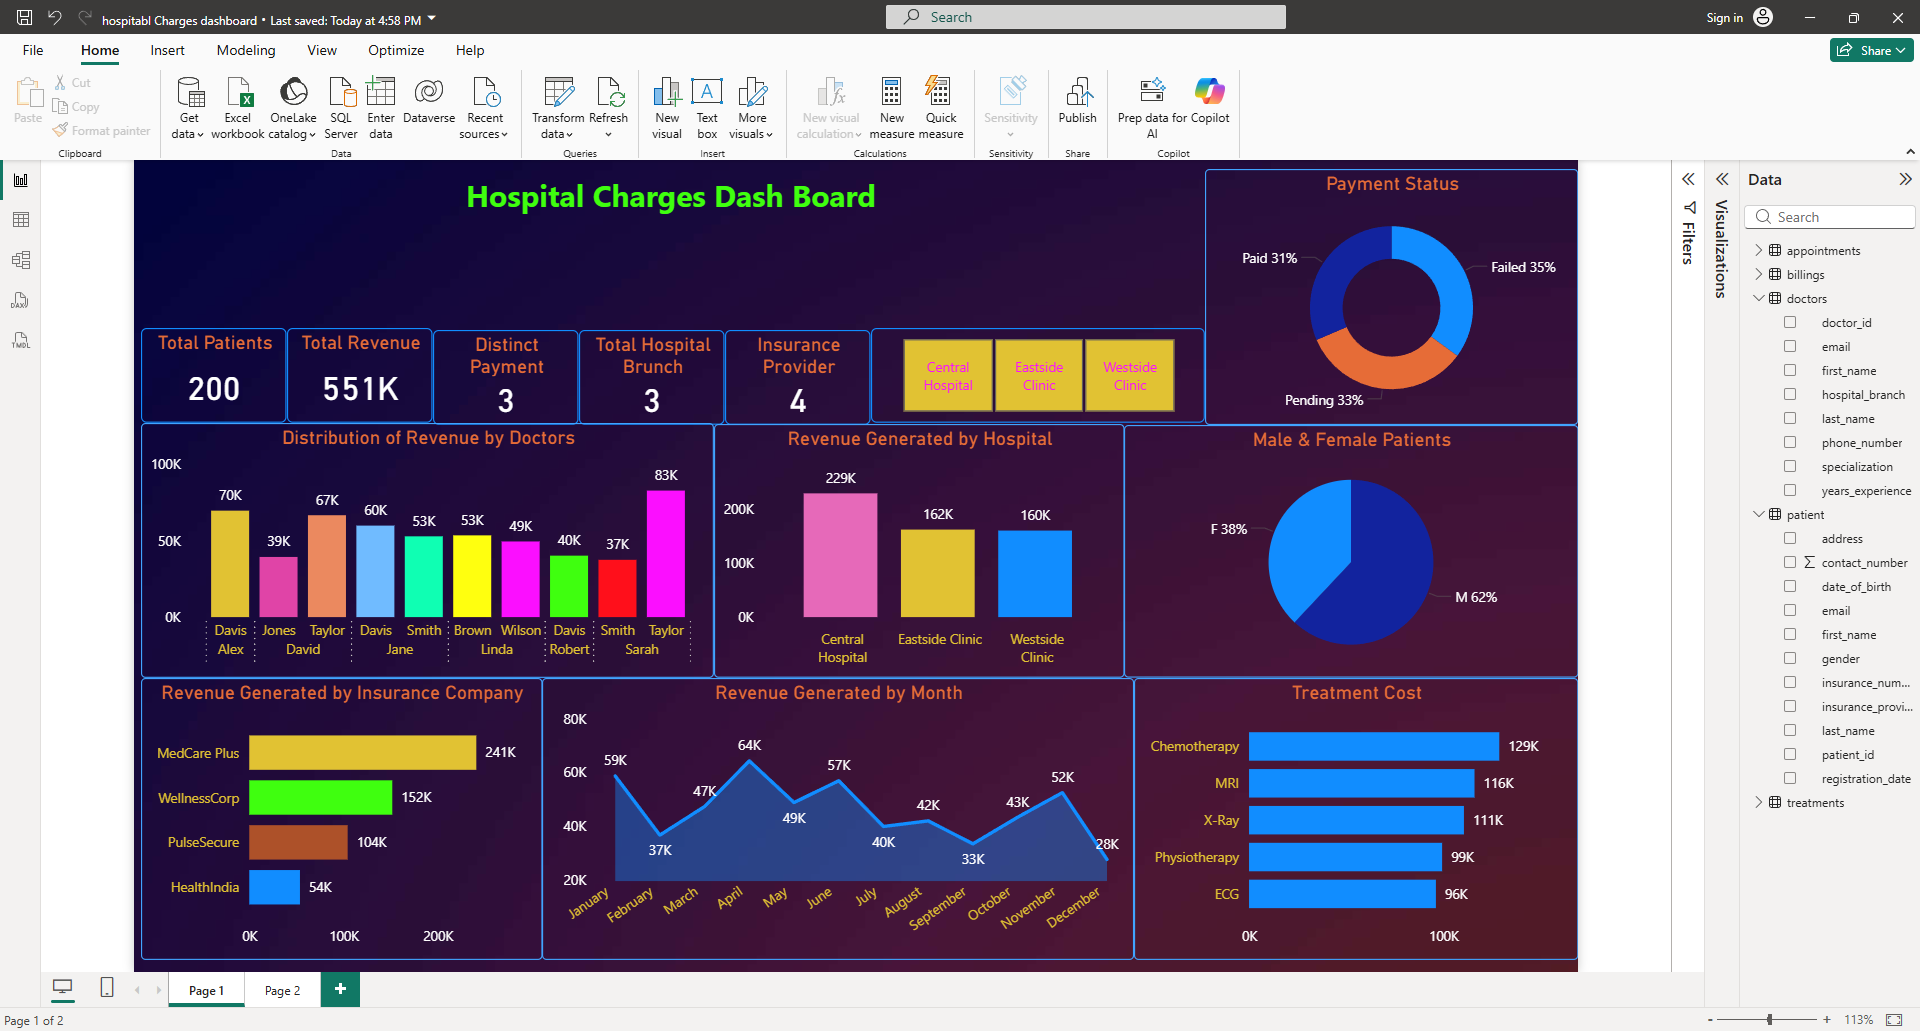

This screenshot's page, from the dashboard's own definition file:
{"tool":"powerbi","page":{"name":"Page 1","canvas":[1280,720],"ordinal":0},"visuals":[{"type":"card","title":"Total Patients","fields":{"Values":["Count(appointments.appointment_id)"]},"box":[6.2,149,129.5,84.2],"z":0},{"type":"card","title":"Total Revenue","fields":{"Values":["Sum(treatments.cost)"]},"box":[135.7,149,129.5,84.2],"z":1},{"type":"card","title":"Distinct Payment","fields":{"Values":["Count(billings.payment_method)"]},"box":[265.1,150.7,129.5,84.2],"z":2},{"type":"card","title":"Total Hospital Brunch","fields":{"Values":["Count(doctors.hospital_branch)"]},"box":[394.6,150.7,129.5,84.2],"z":3},{"type":"card","title":"Insurance Provider","fields":{"Values":["Count(patient.insurance_provider)"]},"box":[524,150.7,129.5,84.2],"z":4},{"type":"columnChart","title":"Distribution of Revenue by Doctors","fields":{"Category":["doctors.first_name","doctors.last_name"],"Y":["Sum(treatments.cost)"]},"box":[6.2,233.2,508.1,226.1],"z":5},{"type":"columnChart","title":"Revenue Generated by Hospital","fields":{"Category":["doctors.hospital_branch"],"Y":["Sum(treatments.cost)"]},"box":[514.3,234.1,363.5,225.2],"z":6},{"type":"pieChart","title":"Male & Female Patients","fields":{"Category":["patient.gender"],"Y":["CountNonNull(patient.gender)"]},"box":[877.8,235,402.6,224.3],"z":7},{"type":"barChart","title":"Revenue Generated by Insurance Company","fields":{"Category":["patient.insurance_provider"],"Y":["Sum(treatments.cost)"]},"box":[6.2,459.3,355.6,250],"z":8},{"type":"areaChart","title":"Revenue Generated by Month","fields":{"Category":["billings.bill_date.Variation.Date Hierarchy.Month"],"Y":["Sum(billings.amount)"]},"box":[361.8,459.3,524.9,250],"z":9},{"type":"barChart","title":"Treatment Cost","fields":{"Category":["treatments.treatment_type"],"Y":["Sum(treatments.cost)"]},"box":[886.7,459.3,393.7,250],"z":10},{"type":"donutChart","title":"Payment Status","fields":{"Category":["billings.payment_status"],"Y":["Sum(billings.amount)"]},"box":[949.7,8,330.7,227],"z":11},{"type":"slicer","fields":{"Values":["doctors.hospital_branch"]},"box":[653.5,149,296.2,84.2],"z":12},{"type":"textbox","box":[14.2,8,923.9,100.2],"z":13}]}

Visuals, with their boxes on the page's 1280x720 design canvas (x1, y1, x2, y2). These are canvas units, not pixel positions in the 1920x1031 screenshot, which may show the page scaled, cropped or inside an application window:
"Total Patients" card: Rect(6, 149, 136, 233)
"Total Revenue" card: Rect(136, 149, 265, 233)
"Distinct Payment" card: Rect(265, 151, 395, 235)
"Total Hospital Brunch" card: Rect(395, 151, 524, 235)
"Insurance Provider" card: Rect(524, 151, 654, 235)
"Distribution of Revenue by Doctors" columnChart: Rect(6, 233, 514, 459)
"Revenue Generated by Hospital" columnChart: Rect(514, 234, 878, 459)
"Male & Female Patients" pieChart: Rect(878, 235, 1280, 459)
"Revenue Generated by Insurance Company" barChart: Rect(6, 459, 362, 709)
"Revenue Generated by Month" areaChart: Rect(362, 459, 887, 709)
"Treatment Cost" barChart: Rect(887, 459, 1280, 709)
"Payment Status" donutChart: Rect(950, 8, 1280, 235)
slicer - doctors.hospital_branch: Rect(654, 149, 950, 233)
textbox: Rect(14, 8, 938, 108)
